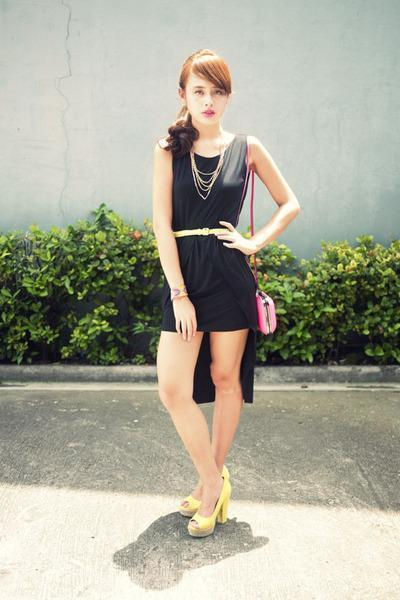bag: (256, 290, 285, 334)
dress: (143, 138, 275, 403)
shoe: (175, 468, 230, 535)
